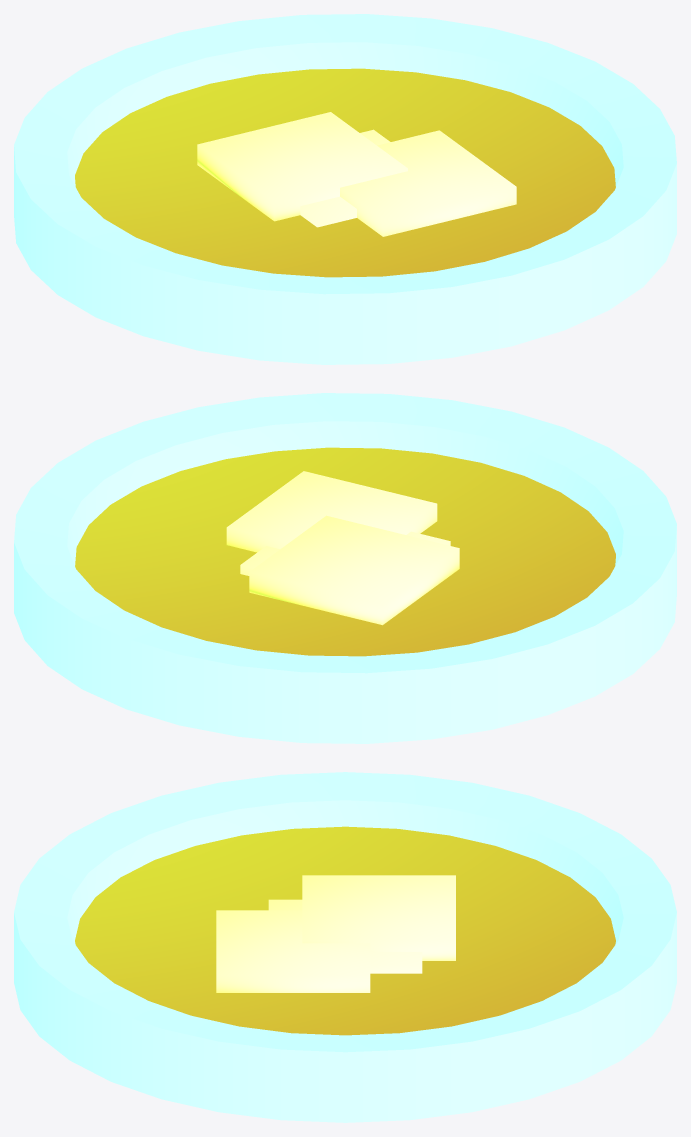
File: coin.fbx
3 renders of one model, top to bottom at view 1: azimuth 30°, elevation 25°; view 2: azimuth 150°, elevation 25°; view 3: azimuth 270°, elevation 25°, orthographic.
Visible parts, largest first — view 1: Cube.002; view 2: Cube.002; view 3: Cube.002.
Part boxes in pixels (x1=…): Cube.002: x1=14, y1=14, x2=676, y2=364; Cube.002: x1=14, y1=393, x2=676, y2=743; Cube.002: x1=14, y1=772, x2=676, y2=1122.
Size of the model in its own units: 200 by 23.52 by 200.
